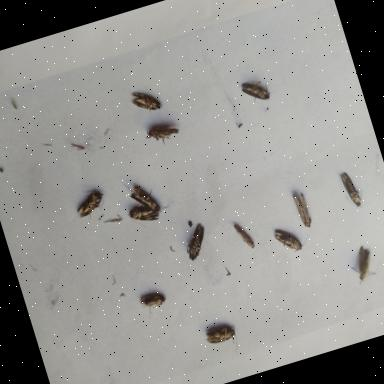pbw: (201, 320, 245, 362), (270, 219, 314, 259), (344, 241, 380, 287), (70, 182, 112, 220), (178, 219, 214, 262), (336, 166, 368, 212), (141, 118, 183, 153), (128, 83, 166, 120), (124, 197, 166, 230), (288, 186, 316, 234), (136, 286, 173, 322), (238, 74, 274, 108), (231, 216, 257, 254)
